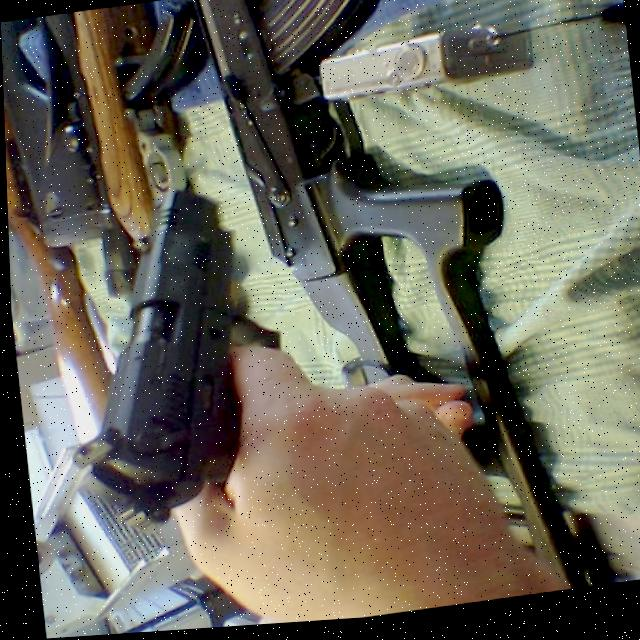firearm: (193, 0, 602, 630), (62, 1, 185, 247)
pistol: (42, 188, 256, 539)
